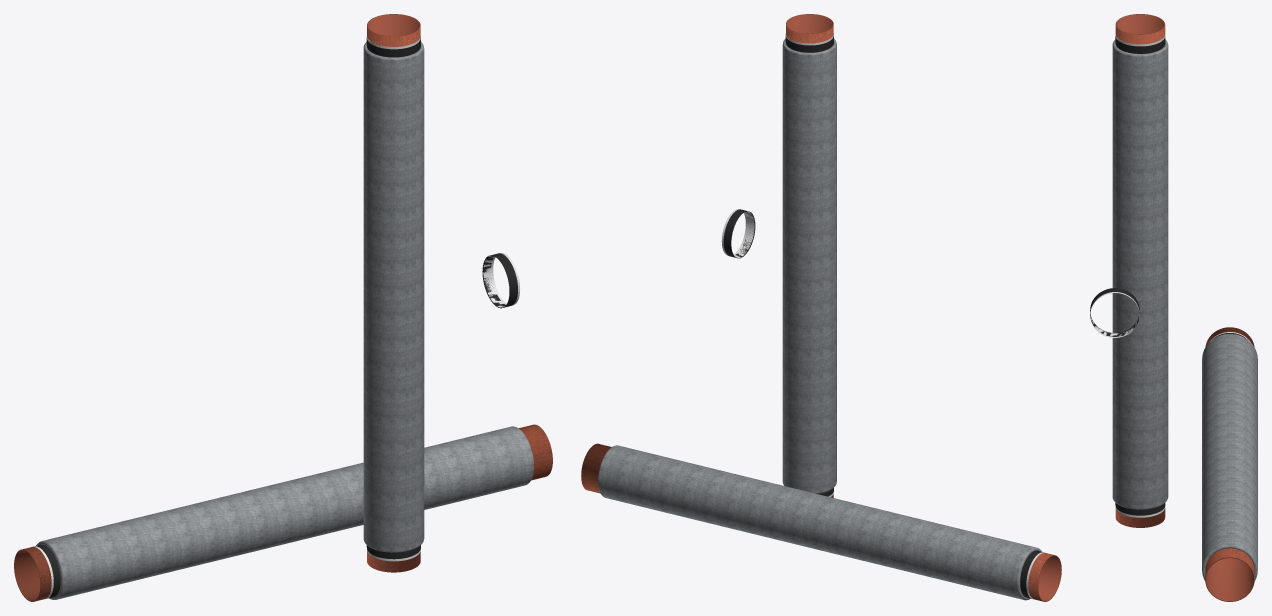
The model's file is nordstream-ar-1.glb.
The picture shows the model from 3 angles, left to right: view 1: azimuth 30°, elevation 25°; view 2: azimuth 150°, elevation 25°; view 3: azimuth 270°, elevation 25°; orthographic projection. The views are drawn at different scales.
Parts seen in each view (by area): view 1: ring beton, ring beton.001, ring rost rohr.001, ring rost rohr, ring black.002; view 2: ring beton, ring beton.001, ring rost rohr.001, ring rost rohr; view 3: ring beton, ring beton.001, ring rost rohr.001, ring rost rohr, ring black.002, ring black, ring black.001, ring metall.002.
Part boxes in pixels (bbox=[...]): ring beton: bbox=[363, 42, 424, 552]; ring beton.001: bbox=[36, 426, 533, 599]; ring rost rohr.001: bbox=[14, 424, 552, 601]; ring rost rohr: bbox=[367, 14, 420, 572]; ring black.002: bbox=[482, 253, 517, 308]; ring beton: bbox=[782, 39, 836, 493]; ring beton.001: bbox=[598, 445, 1041, 600]; ring rost rohr.001: bbox=[581, 443, 1061, 601]; ring rost rohr: bbox=[786, 14, 833, 497]; ring beton: bbox=[1112, 39, 1168, 509]; ring beton.001: bbox=[1202, 334, 1257, 580]; ring rost rohr.001: bbox=[1205, 327, 1254, 601]; ring rost rohr: bbox=[1115, 14, 1165, 527]; ring black.002: bbox=[1090, 288, 1139, 336]; ring black: bbox=[1115, 36, 1165, 53]; ring black.001: bbox=[1115, 503, 1165, 515]; ring metall.002: bbox=[1090, 292, 1139, 337].
Size of the model in its own units: 13 by 13 by 4.01.
Materials: 4 (2 with a texture image).
